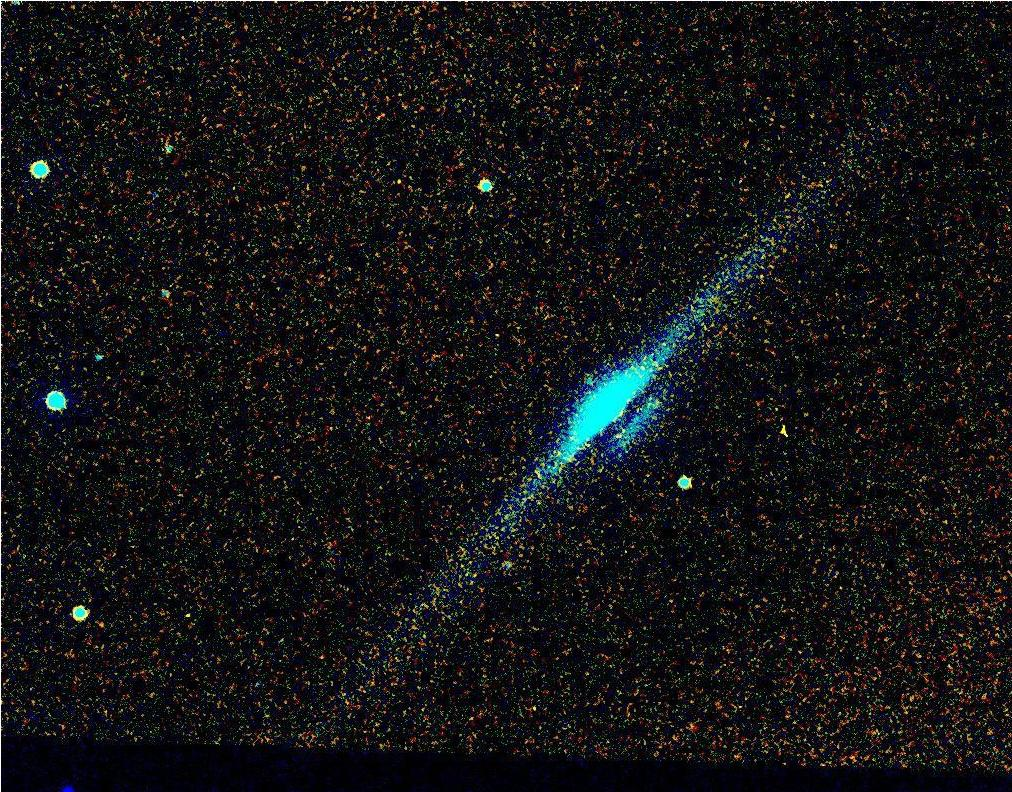star: (769, 413, 799, 443)
